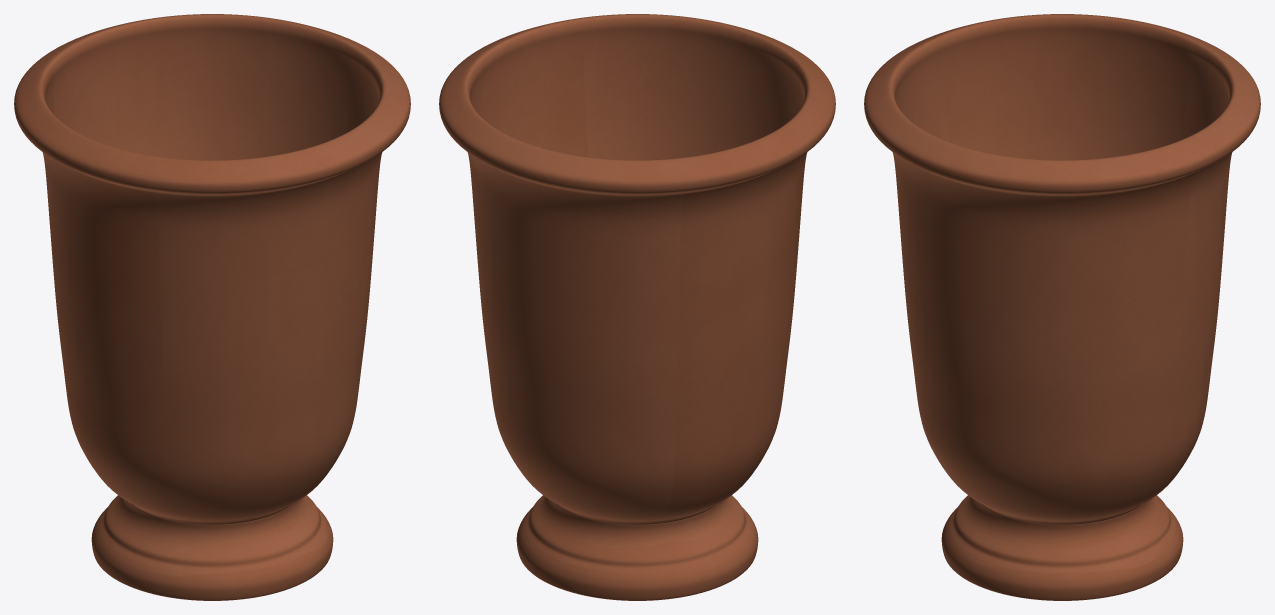
Rendered from eeb89cd2-85bb-4f8e-9605-935d7c25a800.glb.
3 renders of one model, left to right at view 1: azimuth 30°, elevation 25°; view 2: azimuth 150°, elevation 25°; view 3: azimuth 270°, elevation 25°, orthographic.
Visible parts, largest first — view 1: Cube; view 2: Cube; view 3: Cube.
Part boxes in pixels (bbox=[...]): Cube: bbox=[14, 14, 410, 600]; Cube: bbox=[439, 14, 835, 600]; Cube: bbox=[864, 14, 1260, 600].
Size of the model in its own units: 3.02 by 3.93 by 3.02.
1 material, 1 textured.
